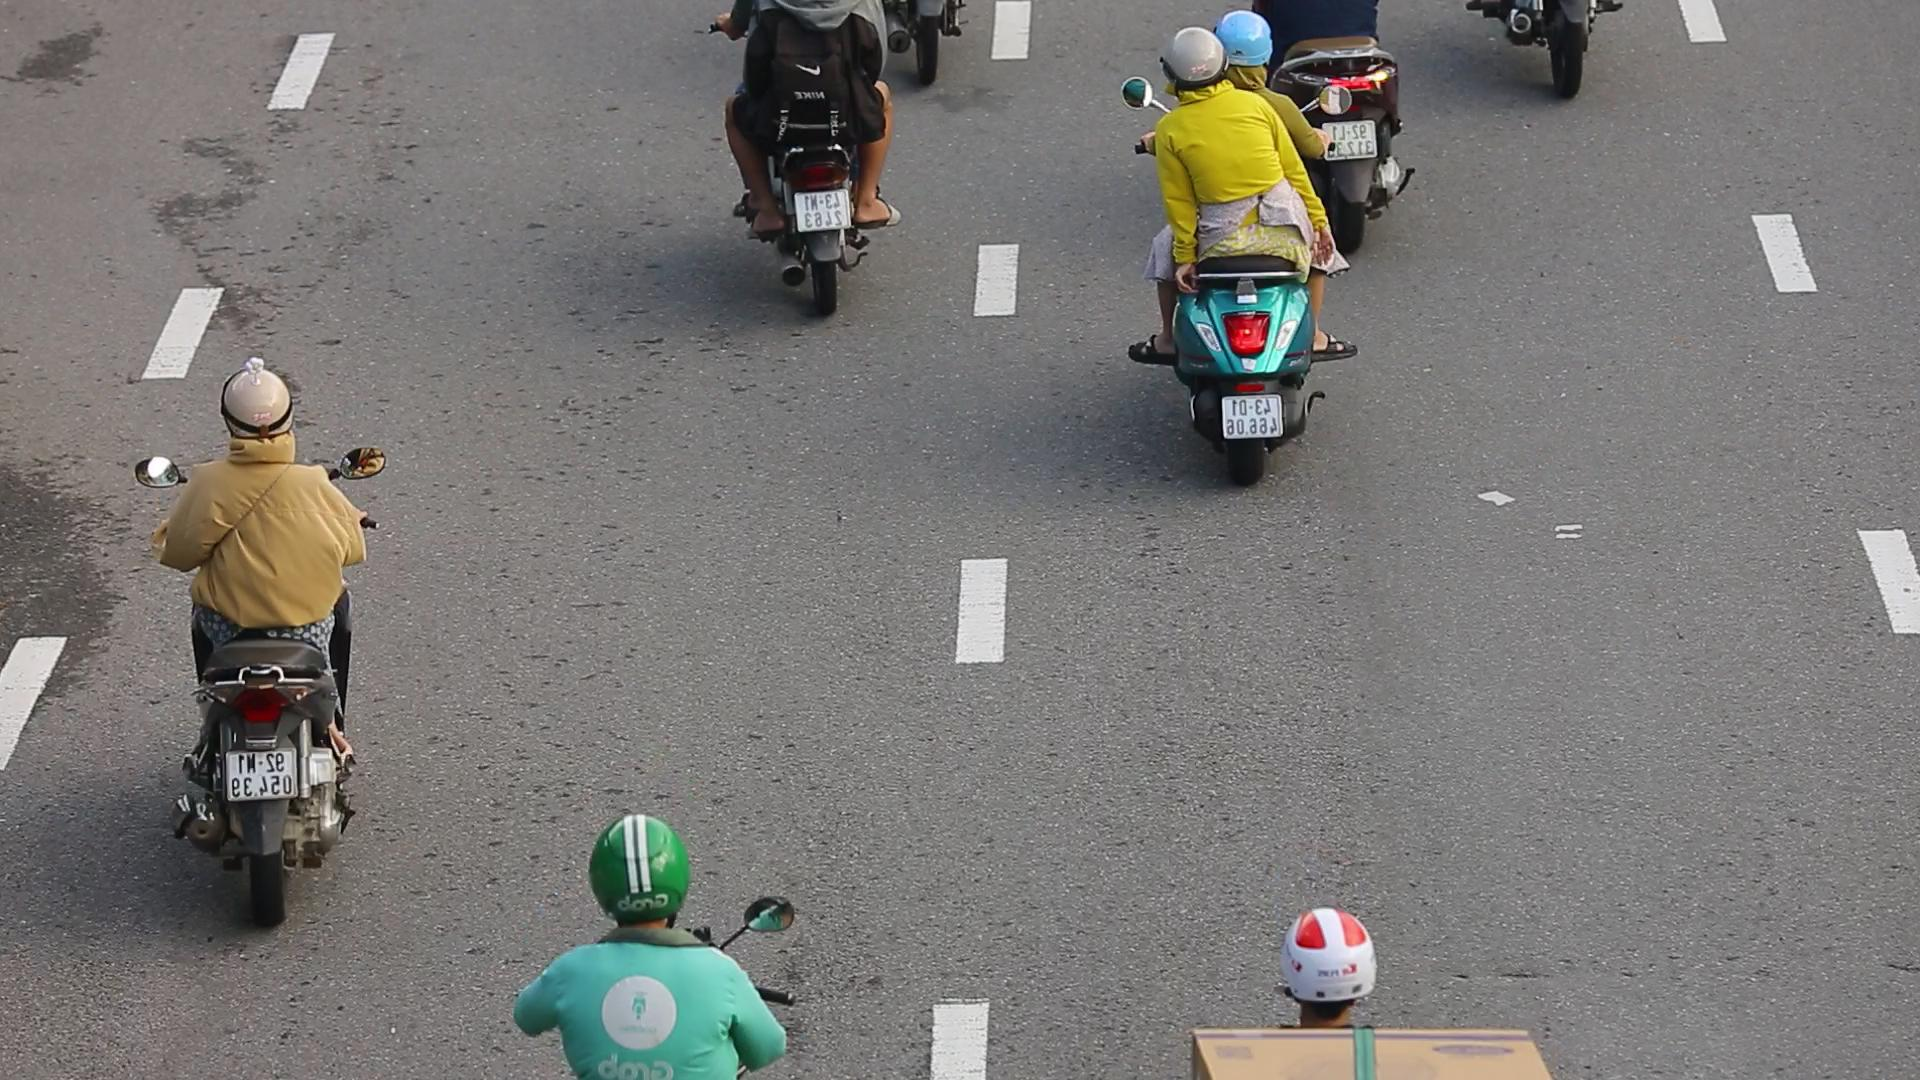motobike: (138, 356, 392, 935)
